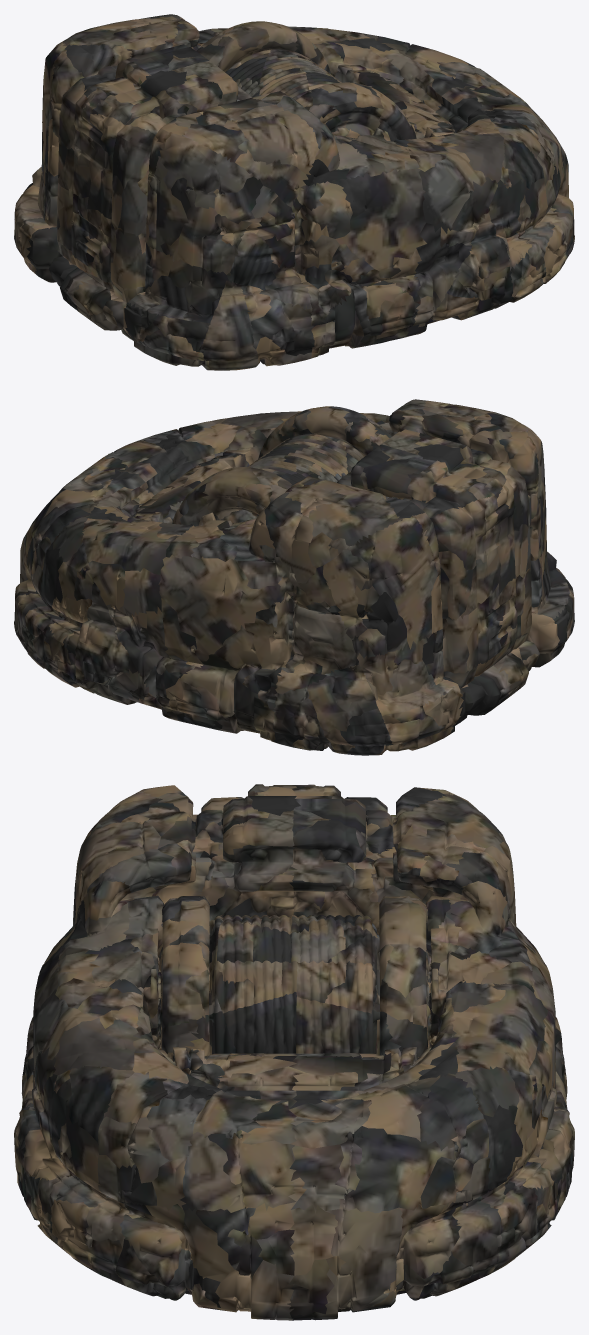
Rendered from arc-towline-lean.glb.
The picture shows the model from 3 angles, top to bottom: view 1: azimuth 30°, elevation 25°; view 2: azimuth 150°, elevation 25°; view 3: azimuth 270°, elevation 25°; orthographic projection. The views are drawn at different scales.
Parts seen in each view (by area): view 1: chassis; view 2: chassis; view 3: chassis.
Boxes of the visible parts, box(x1,y1,x2,y2) form: chassis: box(14, 14, 574, 370); chassis: box(14, 399, 574, 755); chassis: box(14, 784, 574, 1320).
Bounding box in the file's own units: 0.9897 × 0.467 × 0.8097.
1 material, 1 textured.
